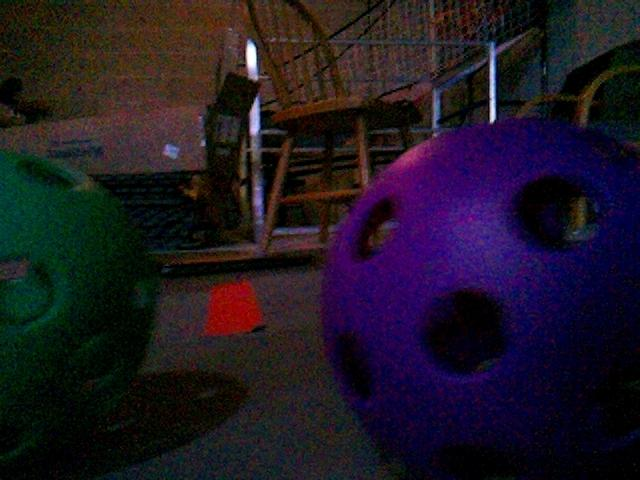Green: (0, 147, 166, 471)
Purple: (317, 121, 638, 476)
